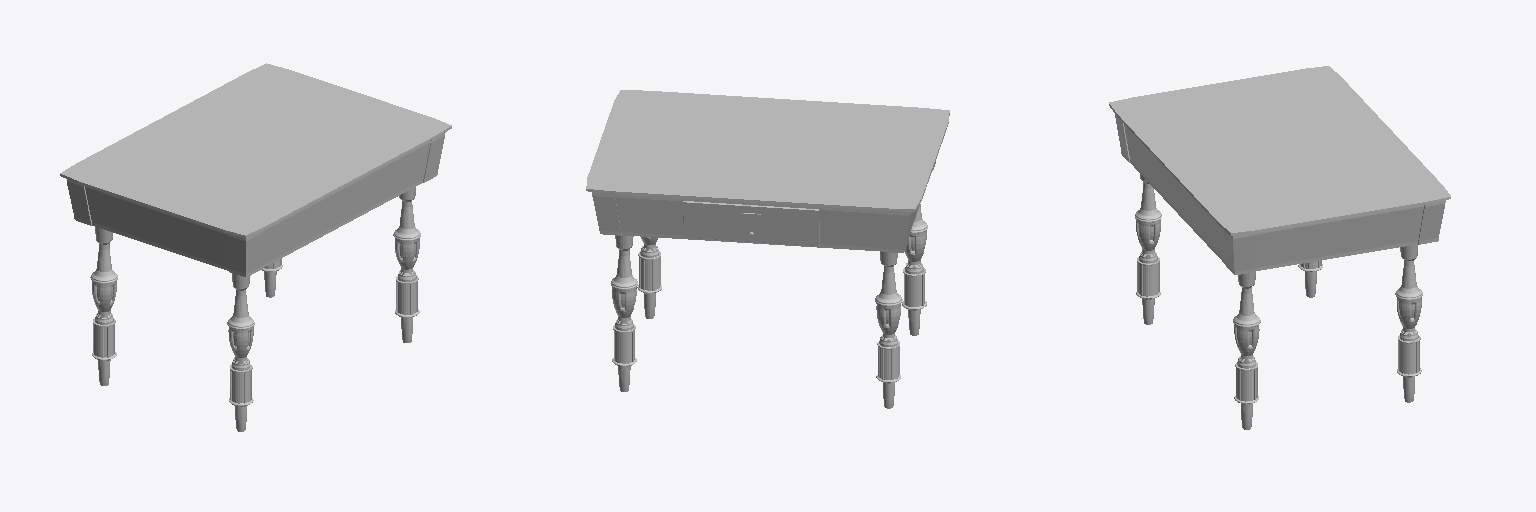
File: Table.obj
3 views of the same model, side by side, from view 1: azimuth 30°, elevation 25°; view 2: azimuth 150°, elevation 25°; view 3: azimuth 270°, elevation 25° (orthographic).
Visible parts, largest first — view 1: Cube, Cylinder; view 2: Cube, Cylinder, Cube.001; view 3: Cube, Cylinder.
Part boxes in pixels (x1,y1,x2,y2): Cube: (60, 63, 451, 277); Cylinder: (90, 187, 420, 431); Cube: (586, 90, 949, 252); Cylinder: (611, 204, 927, 408); Cube.001: (683, 201, 819, 245); Cube: (1109, 66, 1450, 274); Cylinder: (1135, 174, 1422, 429).
Bounding box in the file's own units: 12.49 × 7.4 × 10.79.